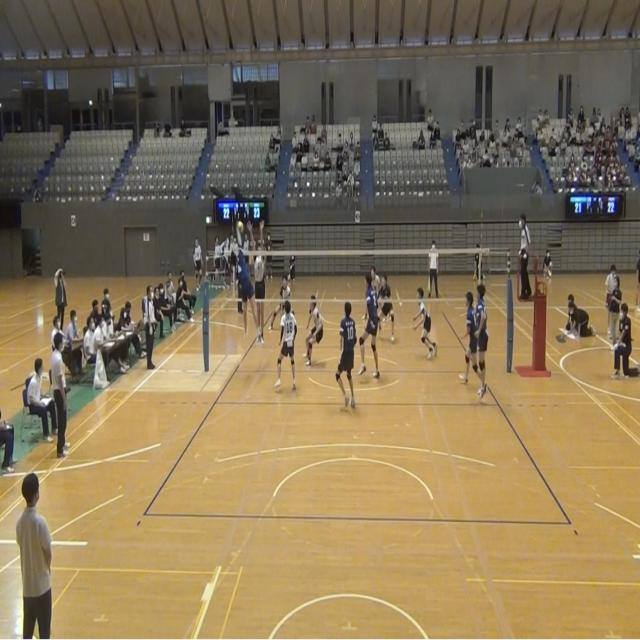spike: (225, 219, 266, 349)
